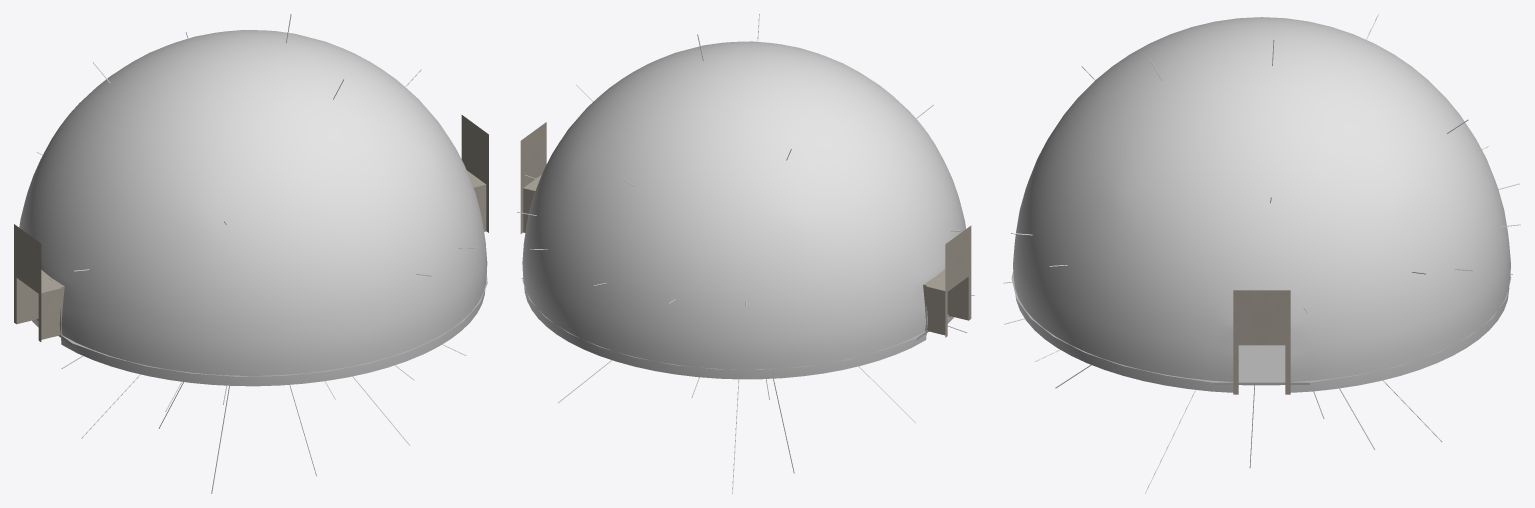
3 views of the same model, side by side, from view 1: azimuth 30°, elevation 25°; view 2: azimuth 150°, elevation 25°; view 3: azimuth 270°, elevation 25° (orthographic). The views are drawn at different scales.
Parts seen in each view (by area): view 1: bigSphere, exit, entrance, ground; view 2: bigSphere, exit, entrance; view 3: bigSphere, entrance, ground.
Boxes of the visible parts, bbox=[...] form: bigSphere: bbox=[19, 30, 487, 386]; exit: bbox=[14, 224, 64, 341]; entrance: bbox=[461, 115, 488, 232]; ground: bbox=[36, 273, 487, 376]; bigSphere: bbox=[522, 41, 965, 379]; exit: bbox=[923, 225, 971, 337]; entrance: bbox=[520, 122, 546, 233]; bigSphere: bbox=[1013, 17, 1510, 392]; entrance: bbox=[1233, 290, 1290, 394]; ground: bbox=[1011, 271, 1511, 385].
Size of the model in its own units: 0.38 by 0.3645 by 0.3595.
